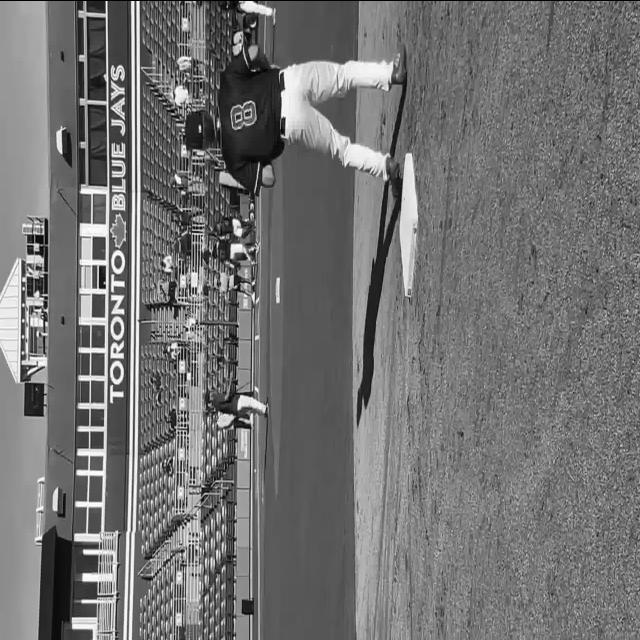base: (400, 150, 416, 296)
shoe: (391, 44, 406, 84), (385, 154, 399, 180), (253, 240, 260, 252), (272, 7, 276, 26), (264, 402, 268, 418), (252, 291, 256, 303), (251, 260, 257, 266), (252, 278, 256, 286)
